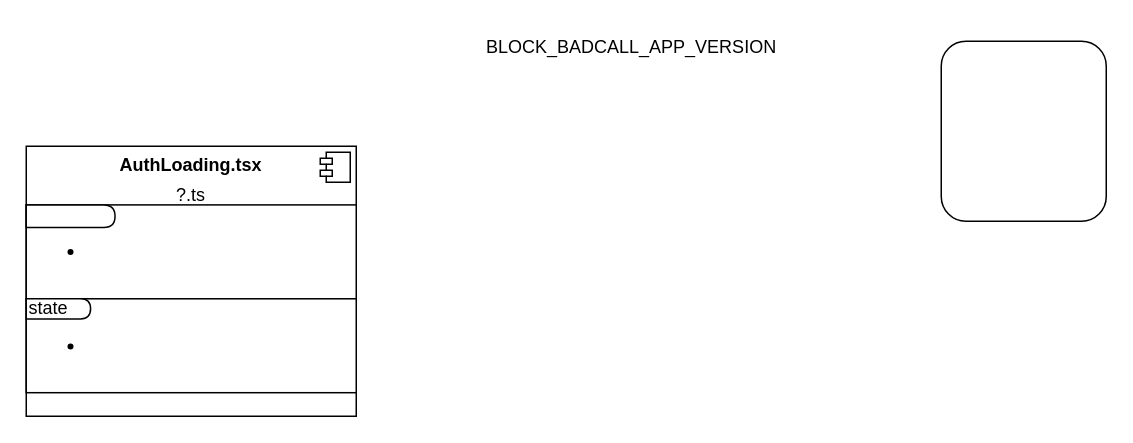
Image size: 1133x443. Some labels were removed from this diagram. Each missing label, with the centre of its shape:
"useEffect" goes at point (70, 215).
"«interface type» UserProfile" goes at point (1023, 130).
